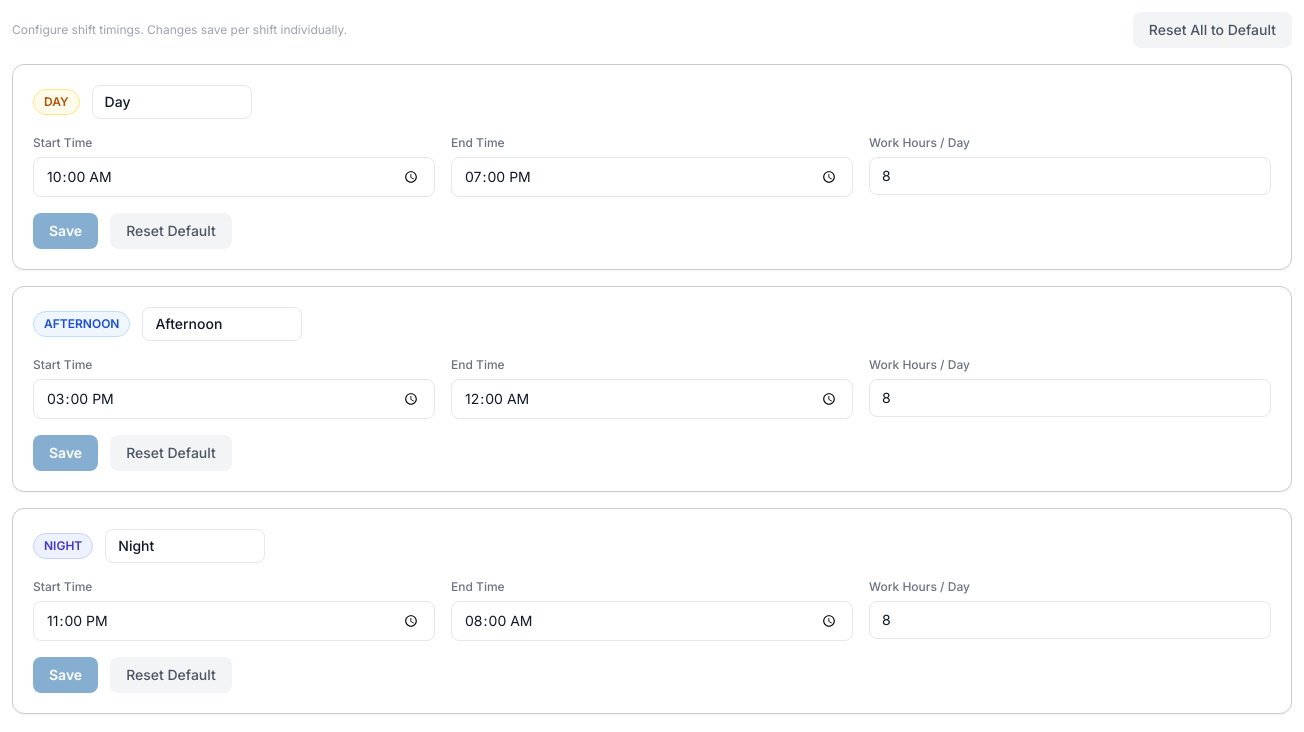
Test case: ShiftConfigPage › ShiftConfigPage_ChangeTime_EnablesSaveButton
Expected: the text "DAY" is shown, [33,89,80,115]
Replace the text in the 1st time field showing "10:00" with "09:00" at (234, 177), box [33,157,435,197]
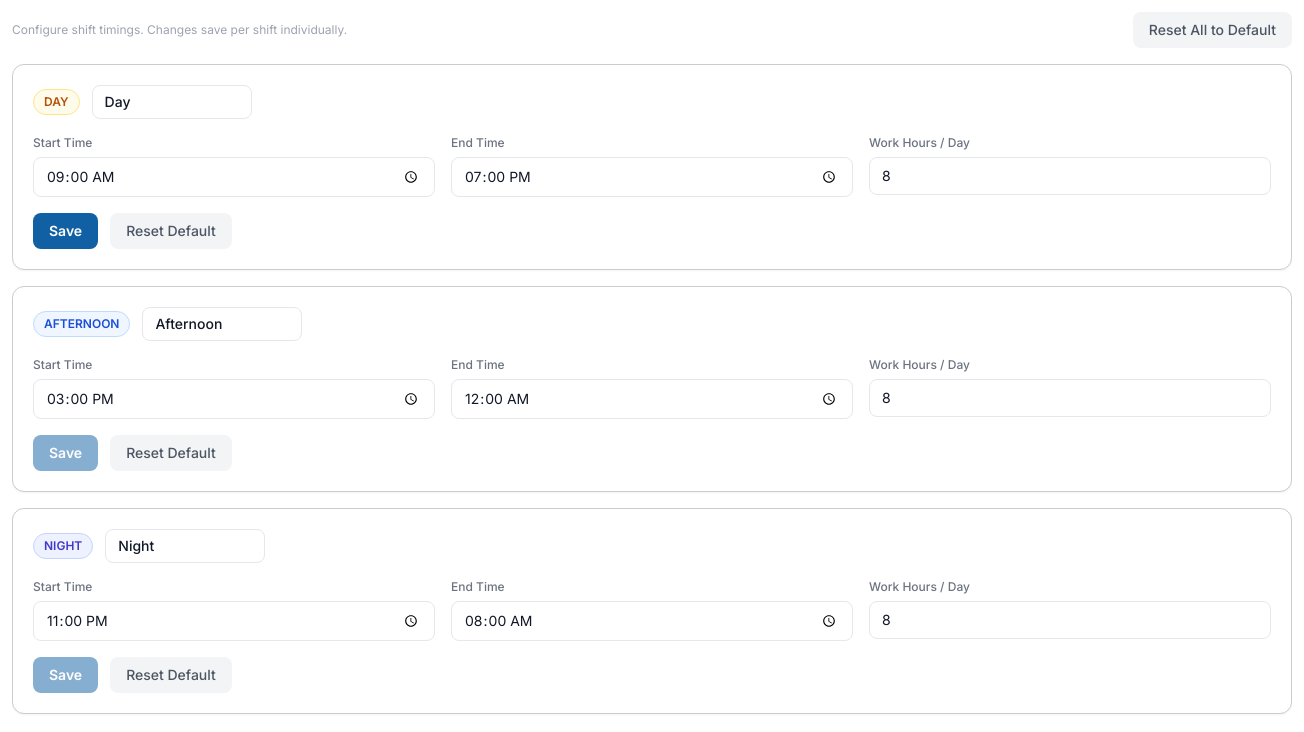
Expected: the 1st button "Save" is enabled, [33,213,98,249]
